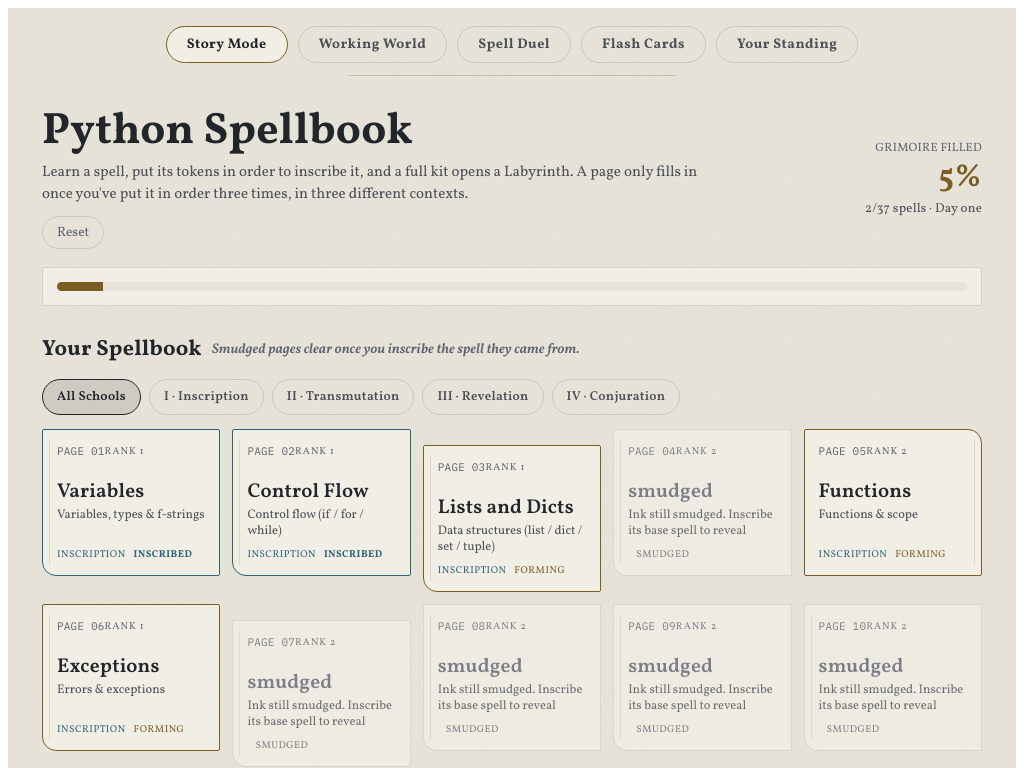
Scenario: a run of ten › ends and says to stop
Click the button "Flash Cards" at {"x": 644, "y": 44}, box [581,26,706,63]
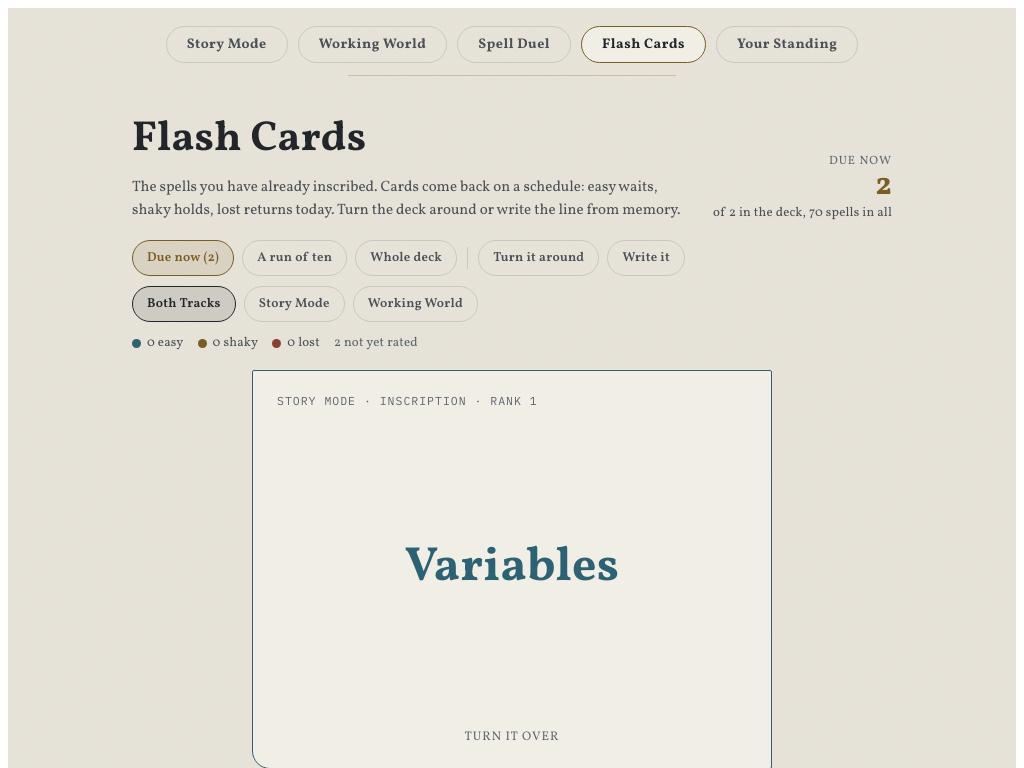
Click the button "A run of ten" at {"x": 295, "y": 258}, box [242,240,347,276]
(page scrolled)
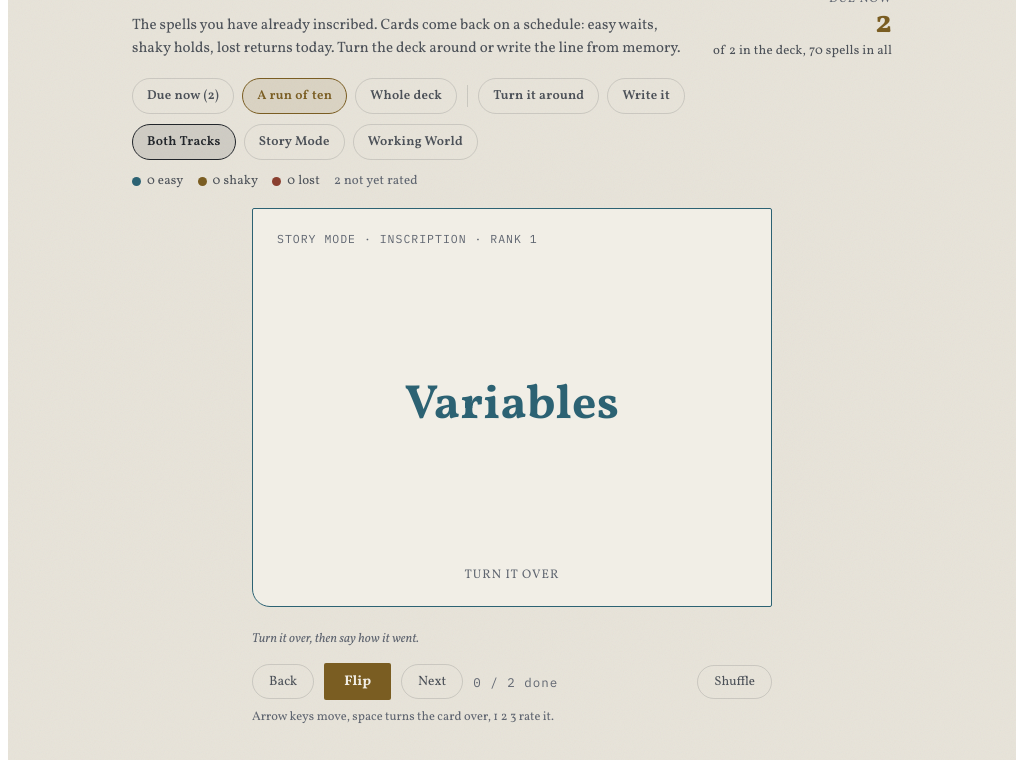
Now the text "0 / 2 done" is shown, box [473,674,558,690]
Click the button "Flip" at {"x": 358, "y": 682}, box [324,663,391,700]
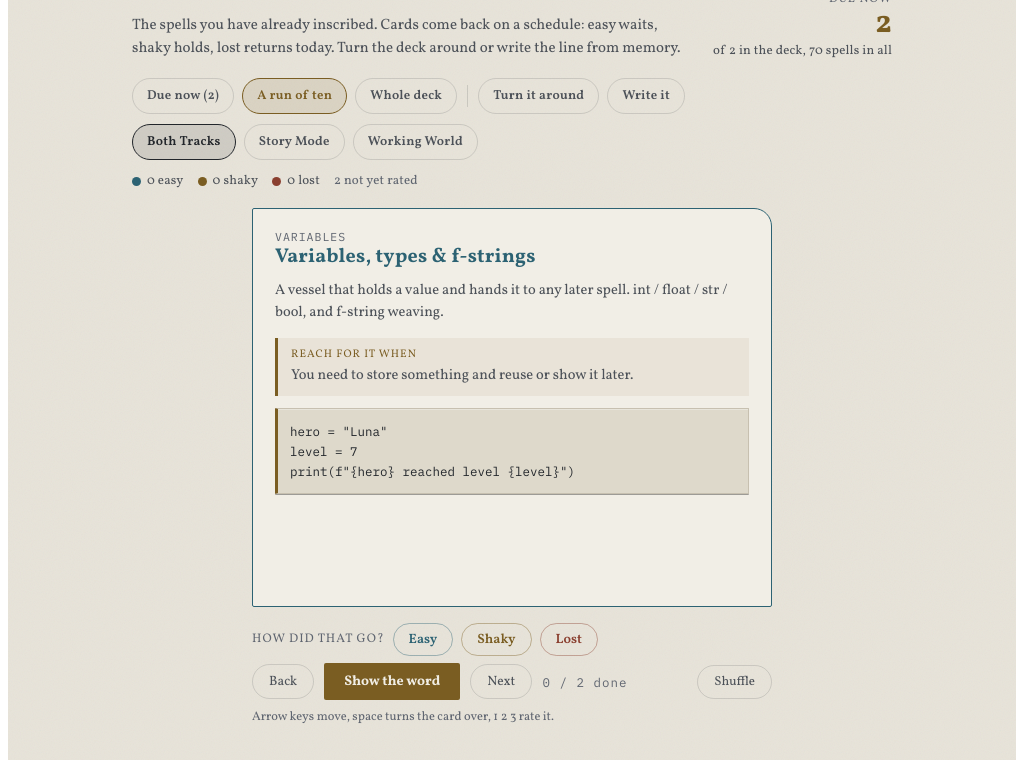
Click the button "Easy" at {"x": 423, "y": 639}, box [393,623,453,656]
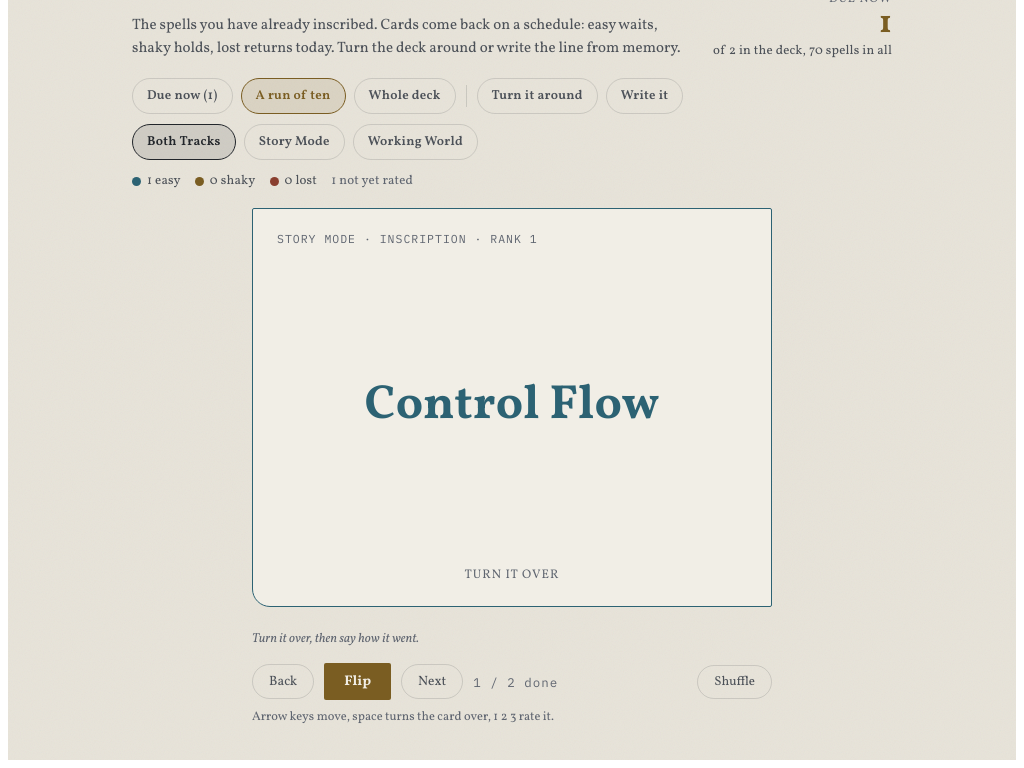
Click the button "Flip" at {"x": 358, "y": 682}, box [324,663,391,700]
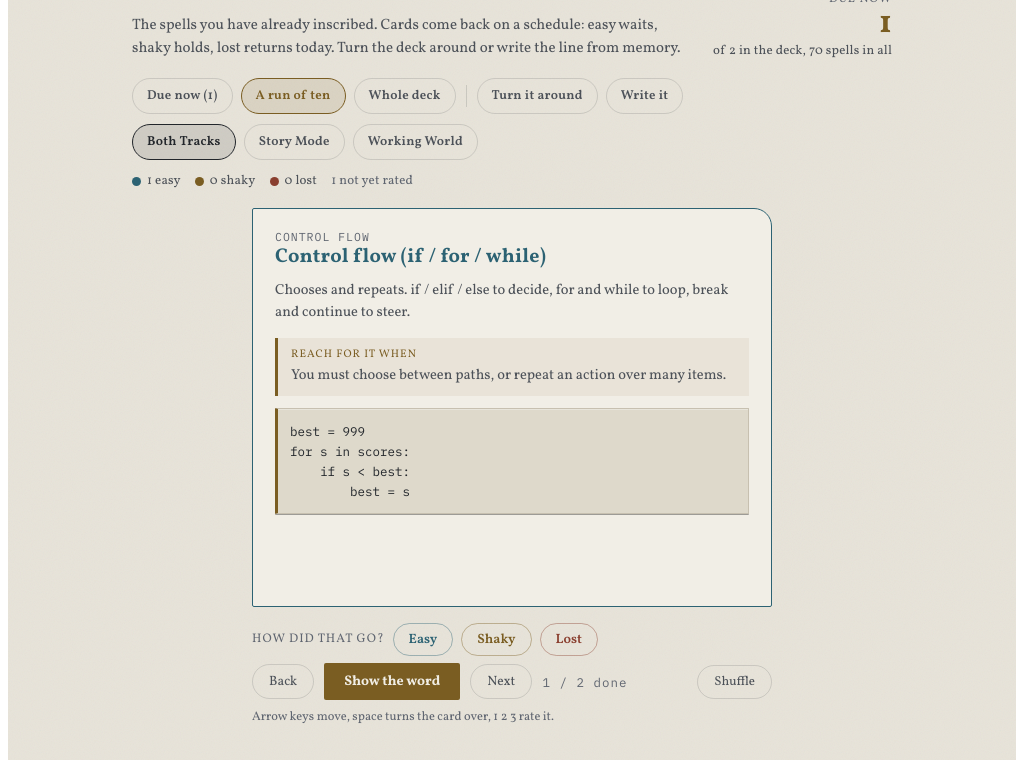
Click the button "Easy" at {"x": 423, "y": 639}, box [393,623,453,656]
(page scrolled)
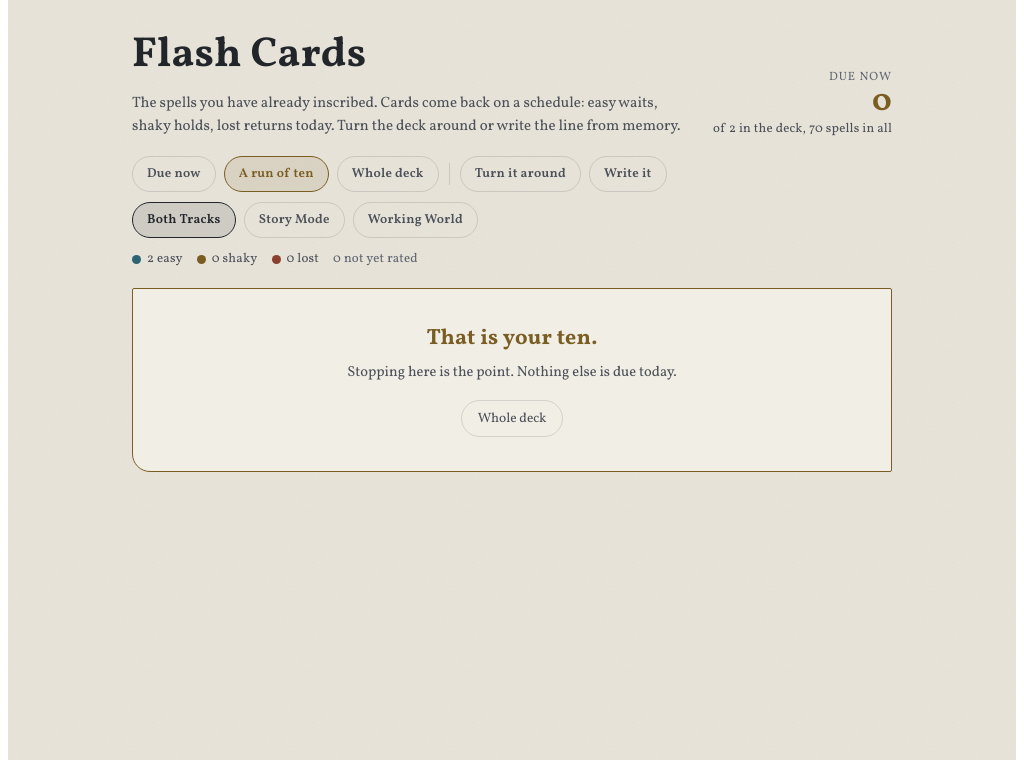
Now the text "That is your ten" is shown, box [426,323,598,354]
Now the text "Stopping here is the point" is shown, box [347,362,517,382]
